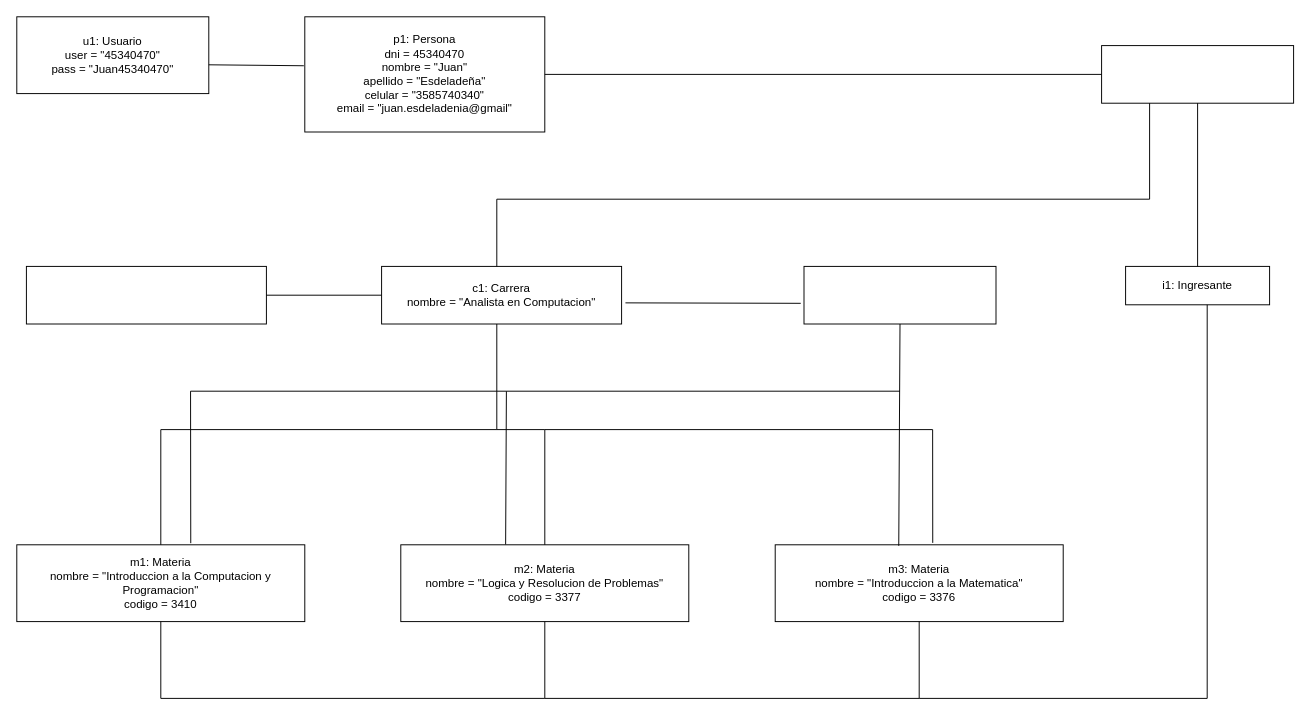
This 1310x716 diagram has some shape labels left out. Here are the shapes that lost their labels. From the top down, the centre of each, then its label:
[1197,74]: e1: Estudiante tipo: TEstudiante = "no_efectivo"
[145,294]: f1: Facultad nombre = "Facultad de Ciencias Exactas"
[899,294]: pl1: Plan de Estudio año = 2024
